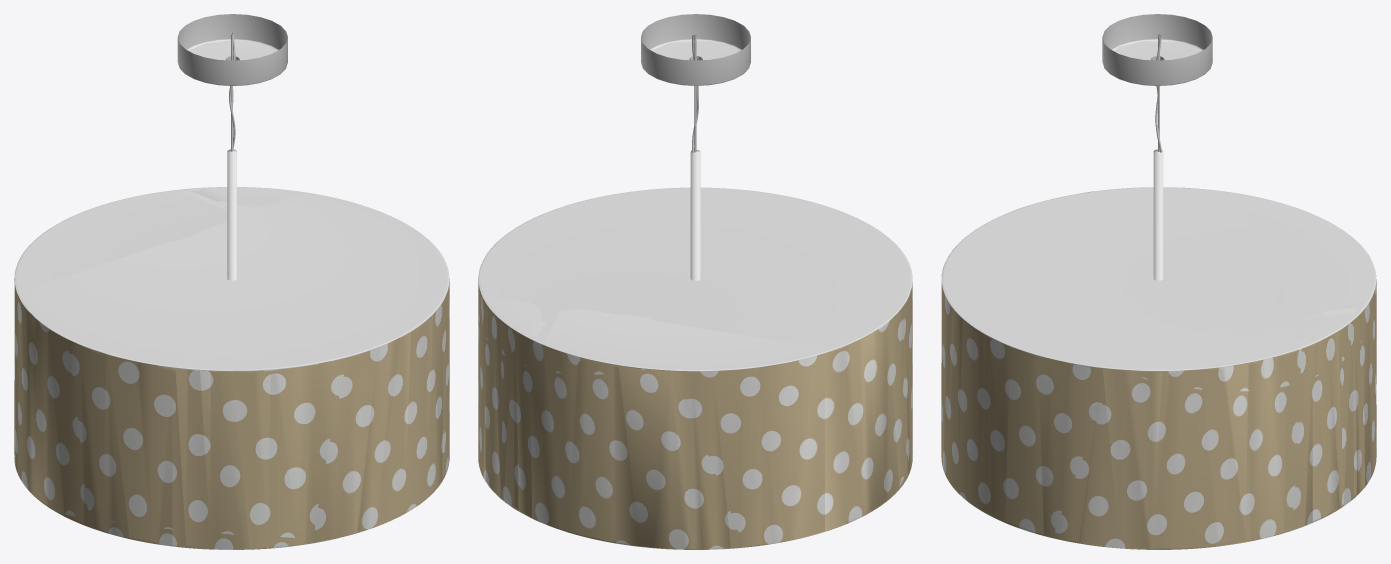
Rendered from lamp.fbx.
3 views of the same model, side by side, from view 1: azimuth 30°, elevation 25°; view 2: azimuth 150°, elevation 25°; view 3: azimuth 270°, elevation 25° (orthographic).
Parts seen in each view (by area): view 1: 97378_obj; view 2: 97378_obj; view 3: 97378_obj.
Boxes of the visible parts, x1=… form: 97378_obj: x1=14, y1=14, x2=449, y2=549; 97378_obj: x1=478, y1=14, x2=912, y2=549; 97378_obj: x1=941, y1=14, x2=1376, y2=549.
Size of the model in its own units: 528 by 568 by 528.
